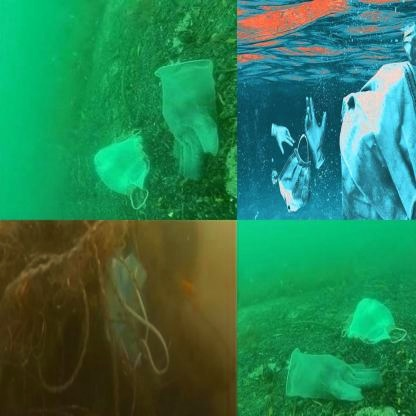Mask: (321, 55, 416, 219), (91, 228, 176, 401), (88, 127, 157, 213), (270, 133, 318, 219), (341, 296, 408, 346), (397, 13, 416, 68)
glove: (157, 60, 220, 178), (286, 347, 384, 402), (300, 93, 331, 172), (270, 115, 296, 157)
